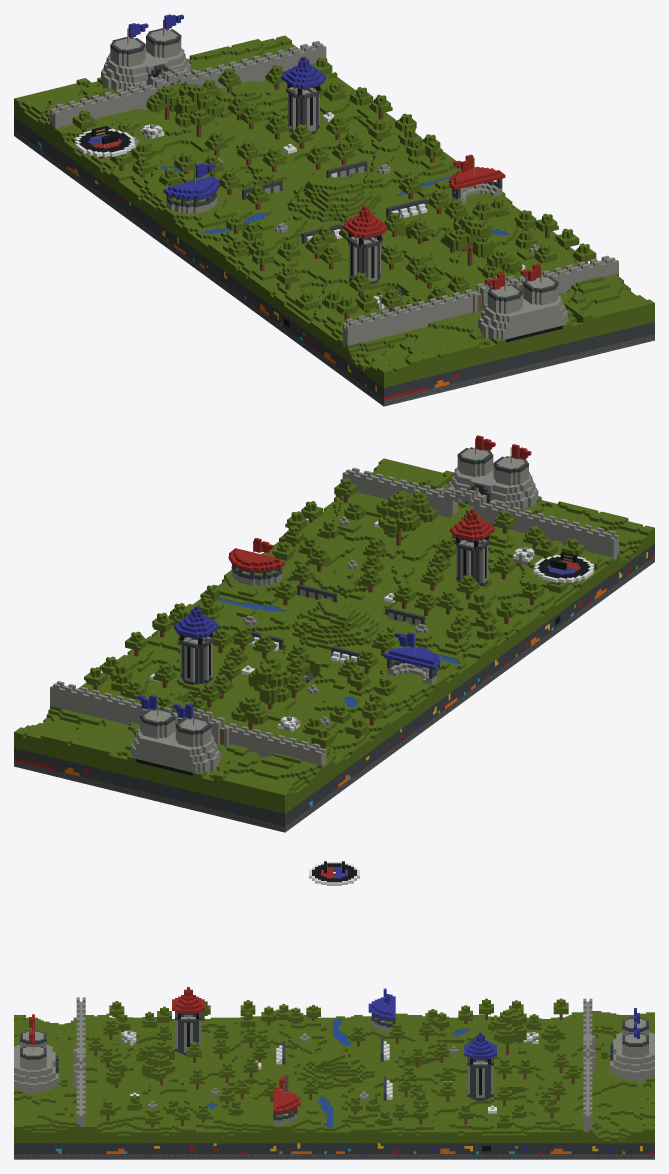
File: minecraft.obj
3 renders of one model, top to bottom at view 1: azimuth 30°, elevation 25°; view 2: azimuth 150°, elevation 25°; view 3: azimuth 270°, elevation 25°, orthographic. The views are drawn at different scales.
Bounding box in the file's own units: 1310 × 520 × 2150.
